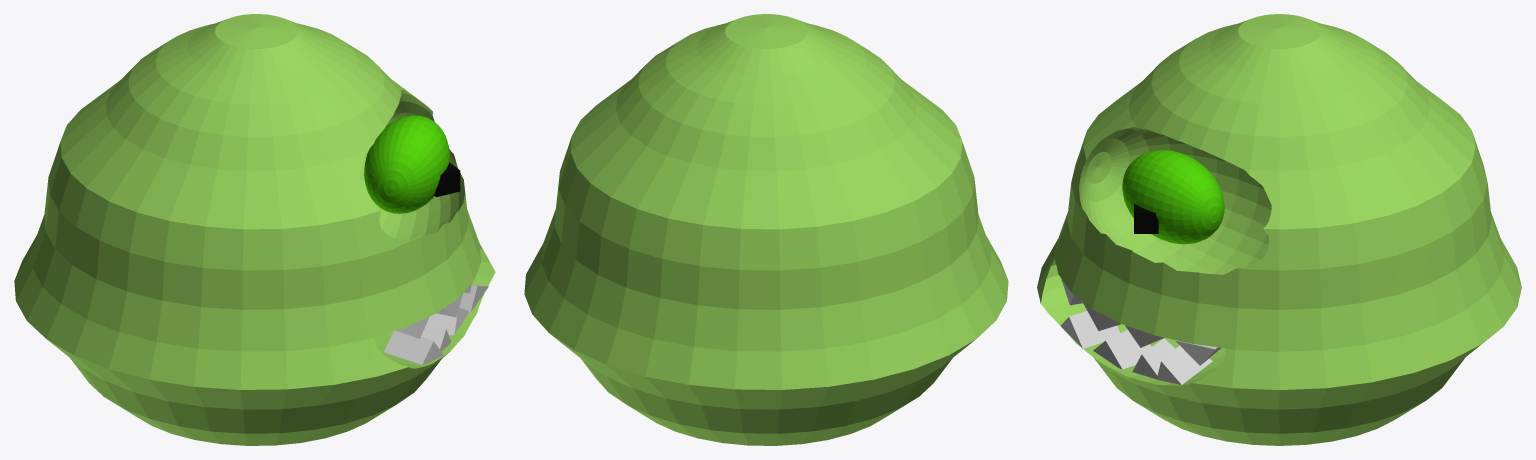
The model's file is green_eyeball_creep.fbx.
The picture shows the model from 3 angles, left to right: view 1: azimuth 30°, elevation 25°; view 2: azimuth 150°, elevation 25°; view 3: azimuth 270°, elevation 25°; orthographic projection.
Parts seen in each view (by area): view 1: Body, outter_eyeball, teeth, tiny_eyeball; view 2: Body; view 3: Body, outter_eyeball, teeth, tiny_eyeball.
Part boxes in pixels (x1=…): Body: x1=14, y1=14, x2=495, y2=445; outter_eyeball: x1=364, y1=115, x2=449, y2=213; teeth: x1=384, y1=283, x2=488, y2=364; tiny_eyeball: x1=434, y1=162, x2=460, y2=197; Body: x1=524, y1=14, x2=1008, y2=445; Body: x1=1037, y1=14, x2=1521, y2=445; outter_eyeball: x1=1122, y1=150, x2=1224, y2=244; teeth: x1=1060, y1=278, x2=1221, y2=384; tiny_eyeball: x1=1134, y1=203, x2=1158, y2=233.
Bounding box in the file's own units: 2.28 × 2 × 2.28.
